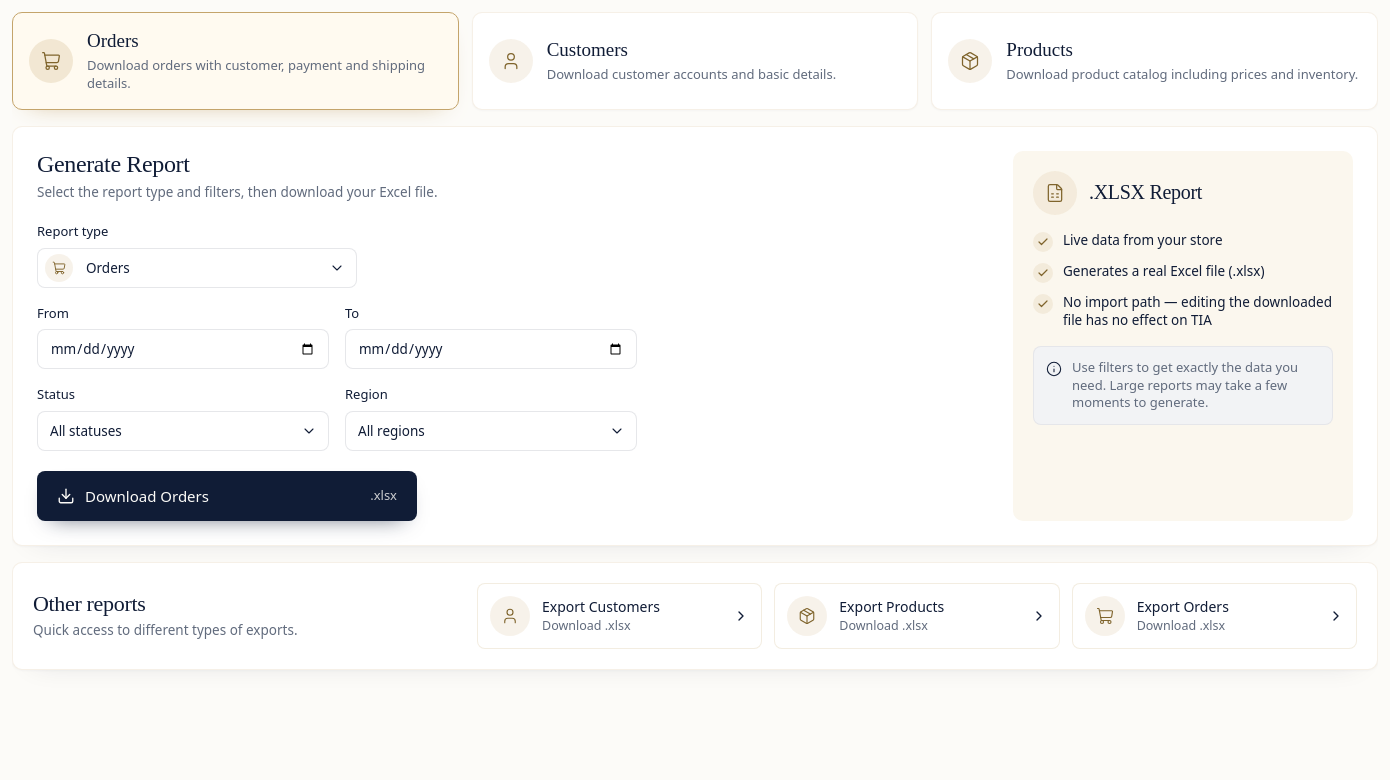
Test: filters per report type (only the real ones) › Customers: no filters
Click the radio button labelled "Customers Download customer accounts and basic details.": click(511, 61) [472, 12, 918, 110]
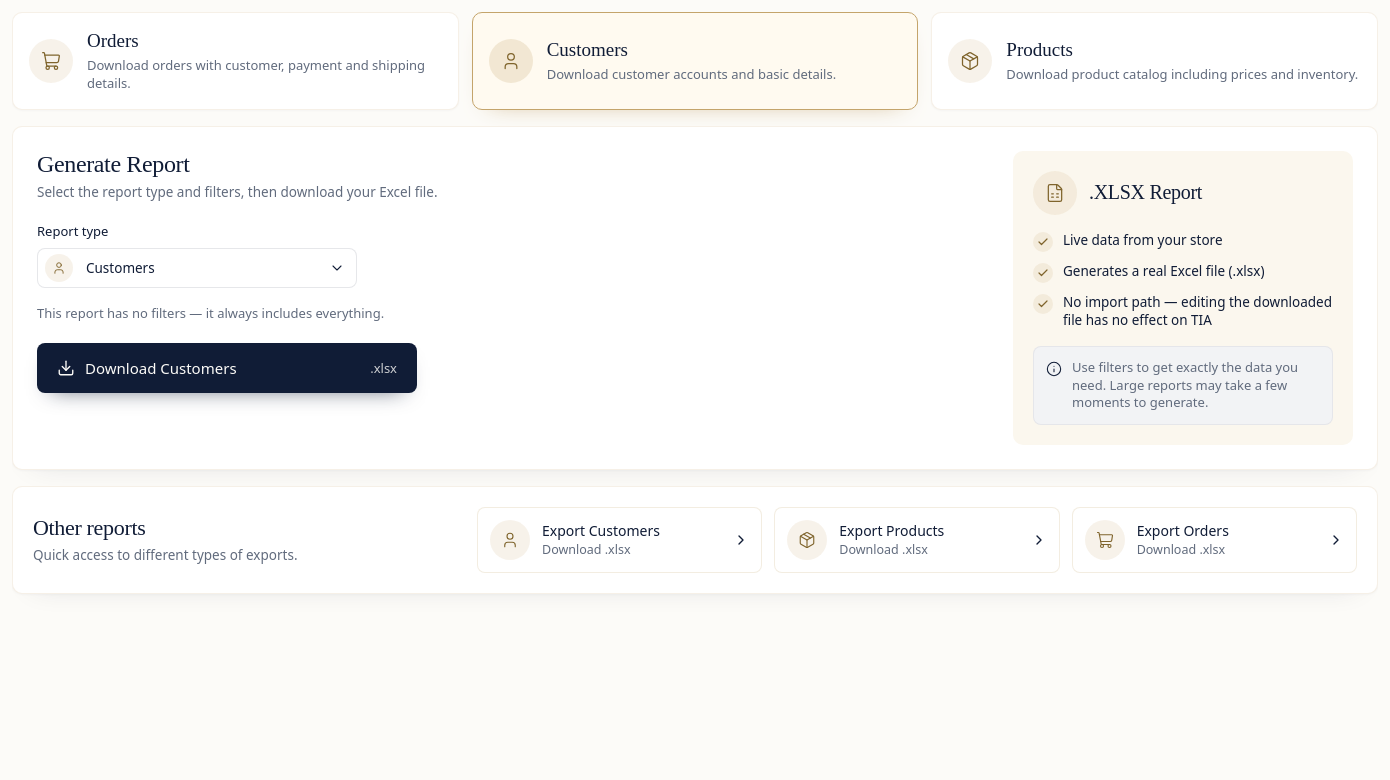
Now the text "This report has no filters — it always includes everything." is shown, box [37, 304, 384, 322]
Now the element with test id "filters-orders" is gone
Now the label labelled "Status" is gone
